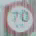Speed limit: (0, 0, 34, 35)
